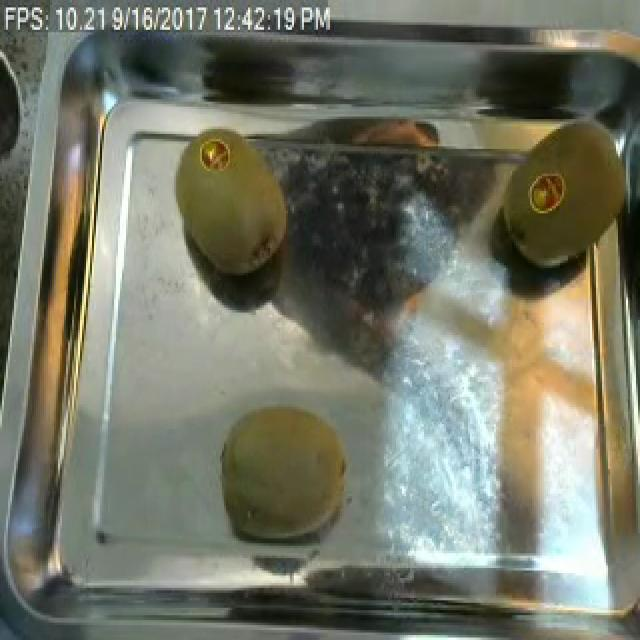Fruit: (486, 109, 638, 285), (208, 394, 358, 554), (162, 131, 302, 288)
